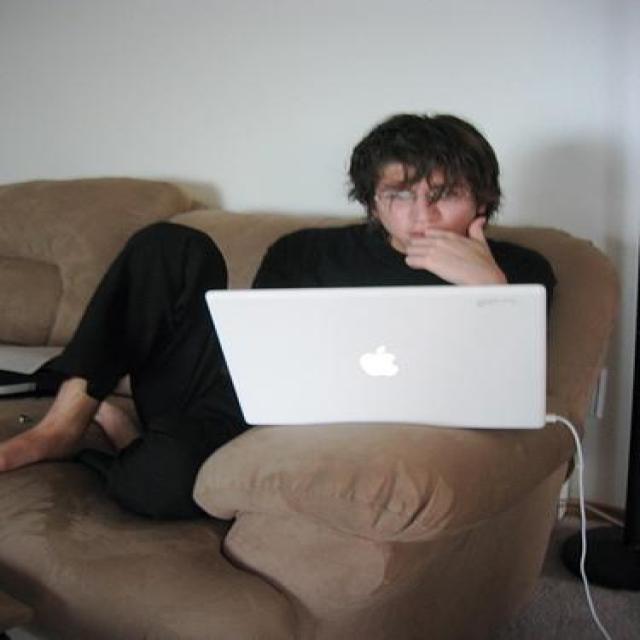No_Gloves: (394, 215, 522, 291)
